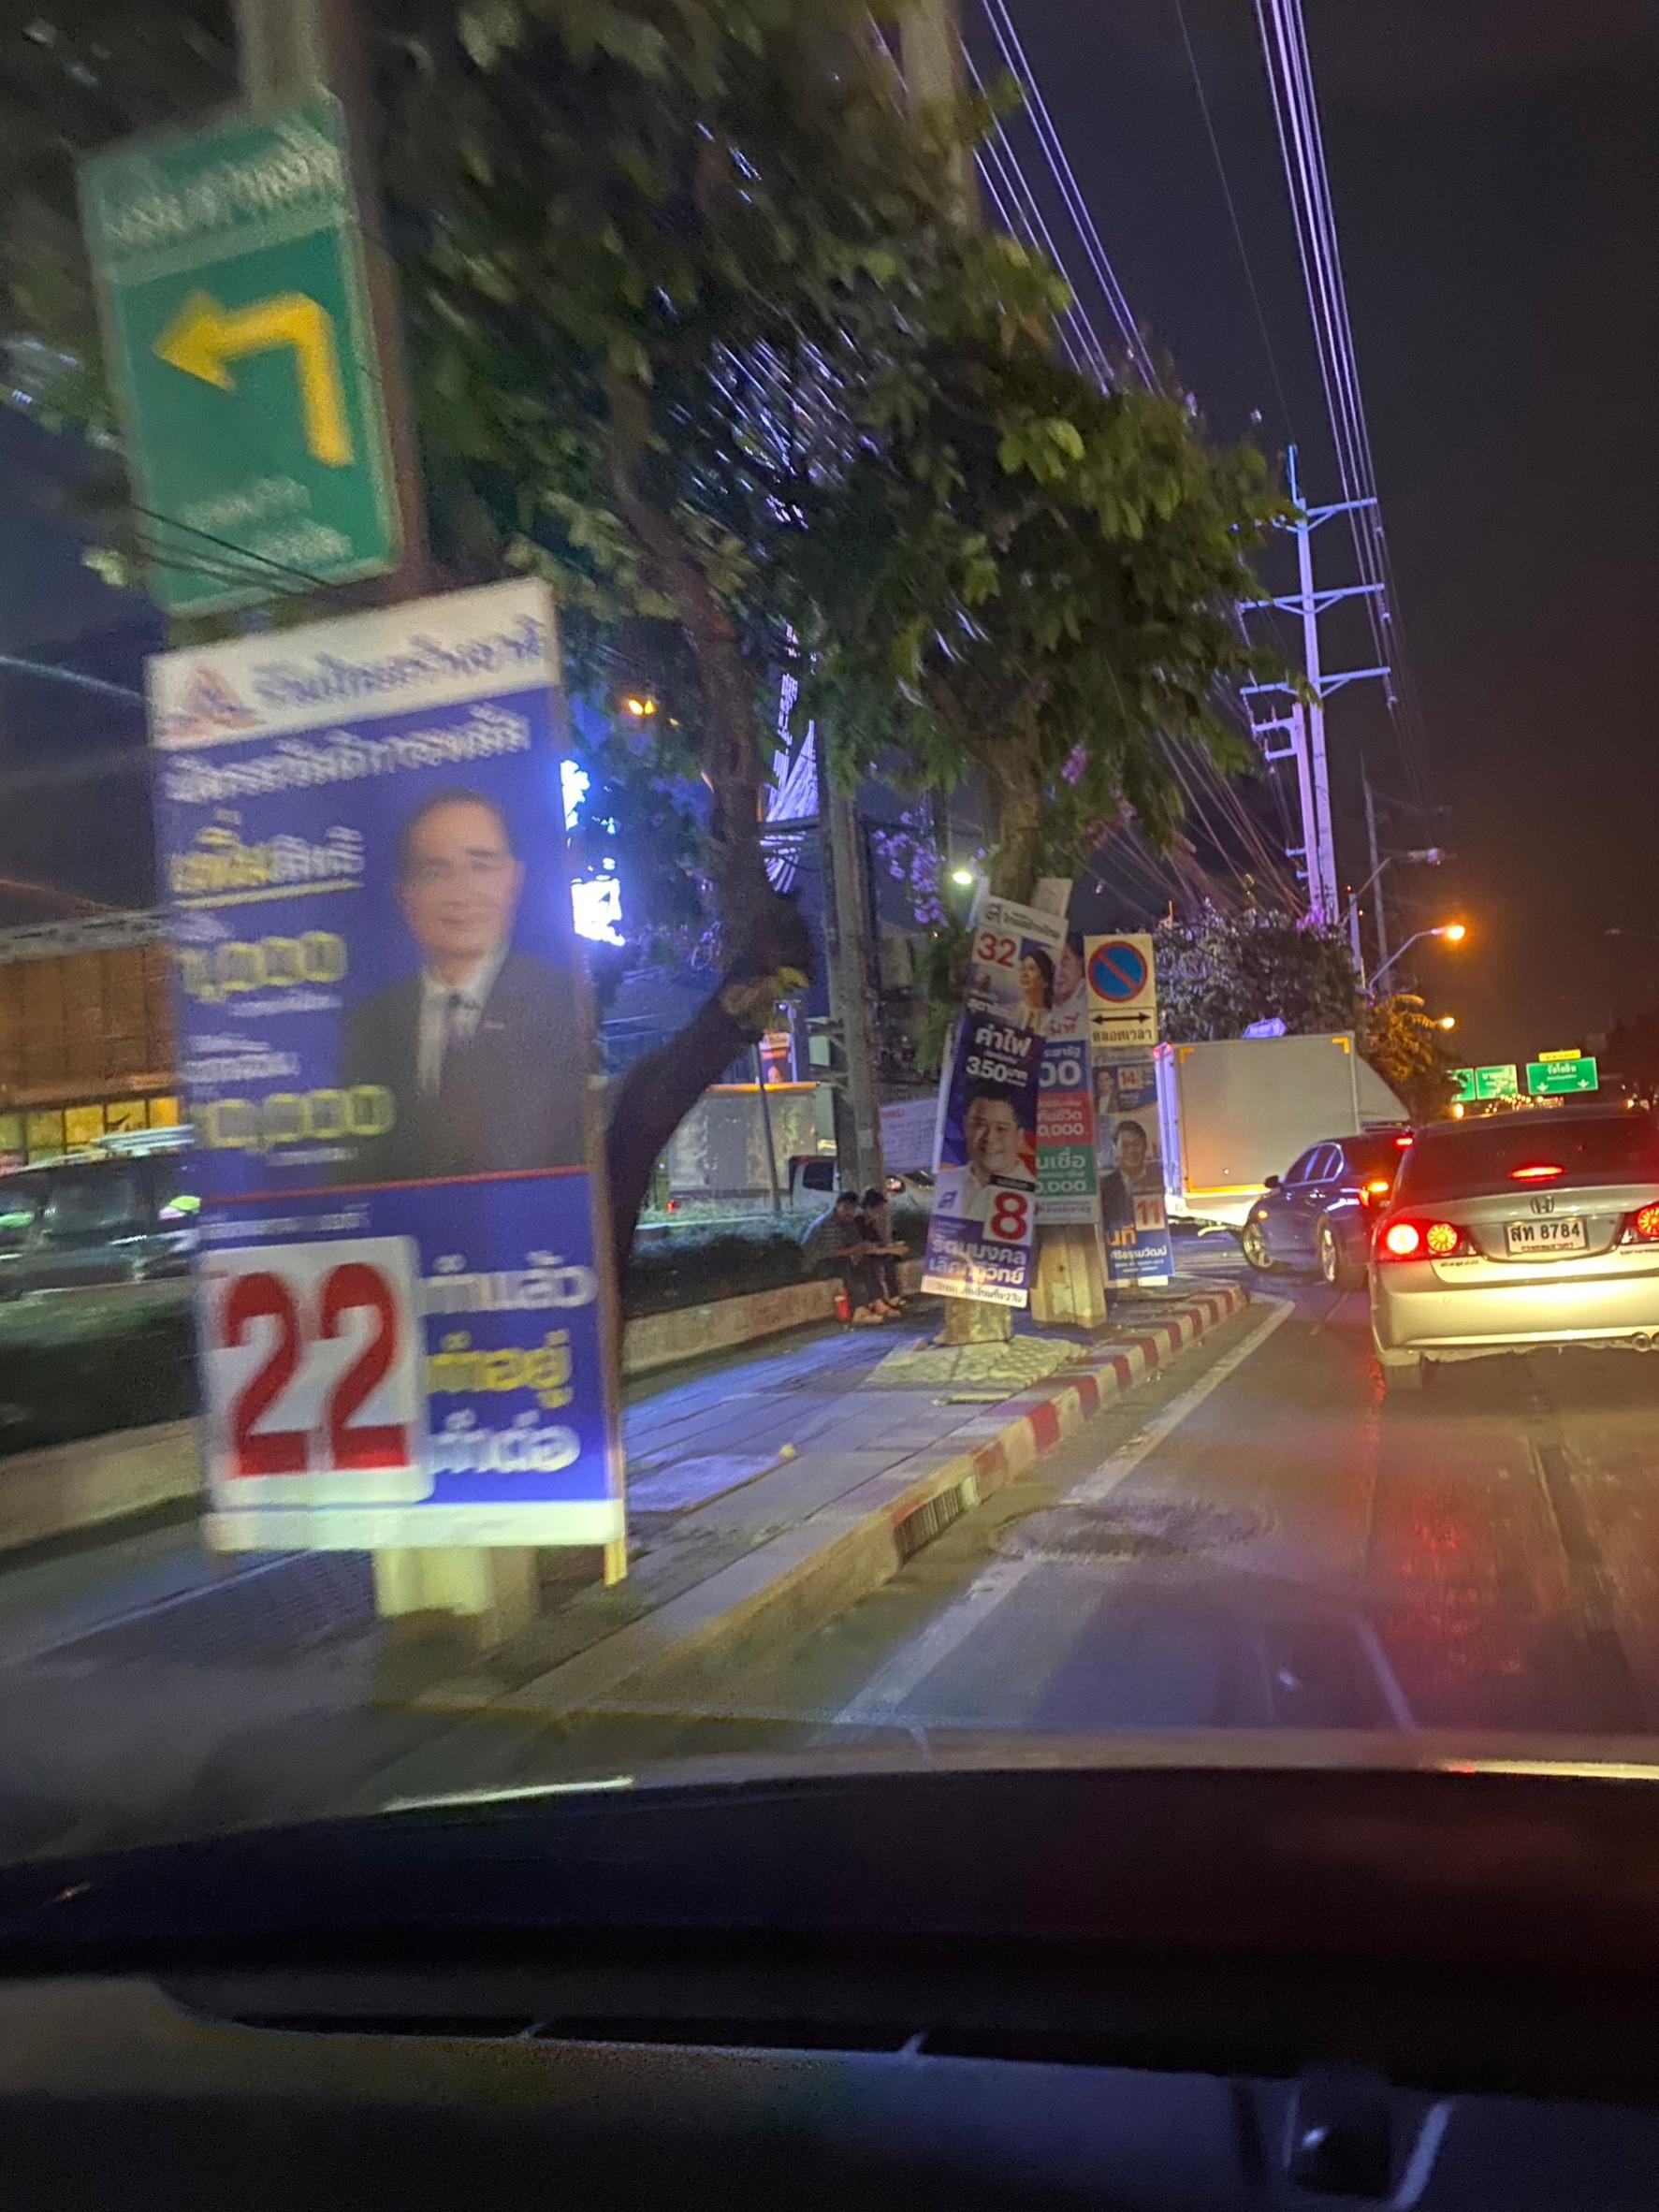Banner: (138, 639, 624, 1557), (936, 888, 1098, 1306)
